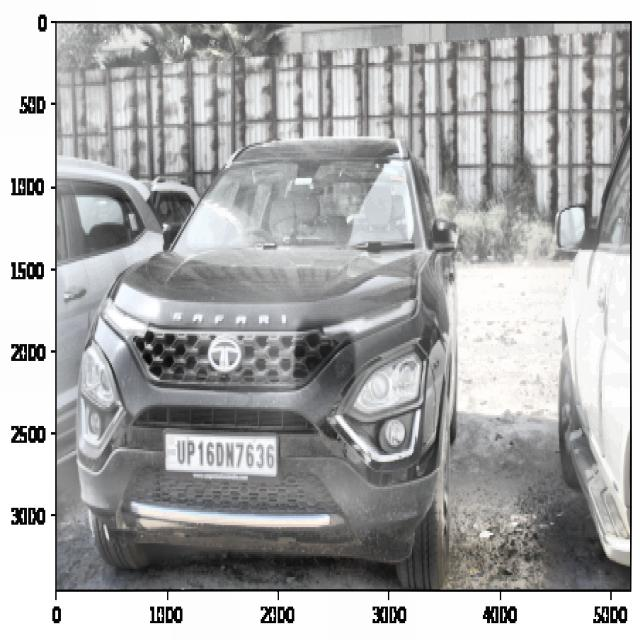license_plate: (171, 428, 278, 478)
